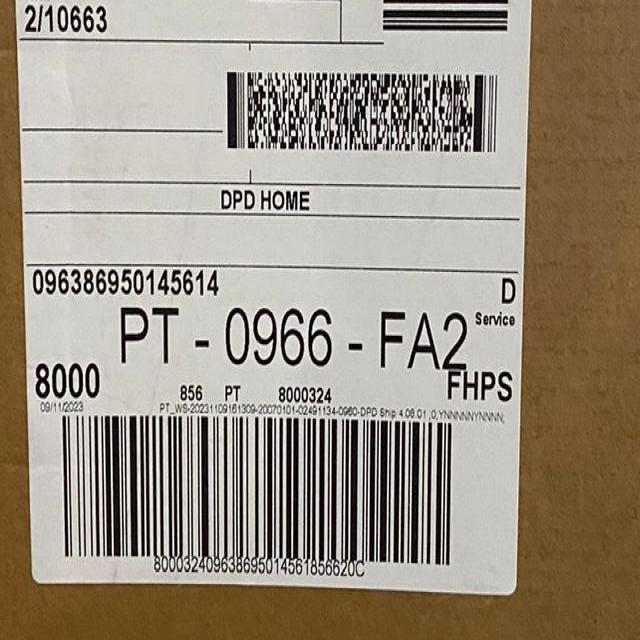Barcode: (60, 414, 455, 572)
